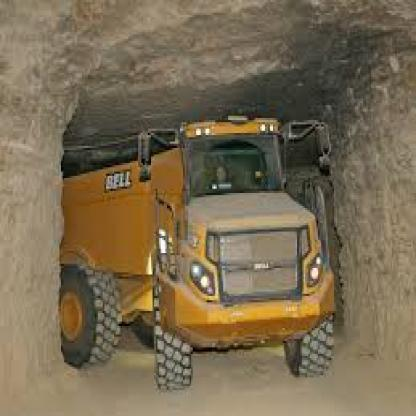dump_truck: (63, 105, 378, 386)
